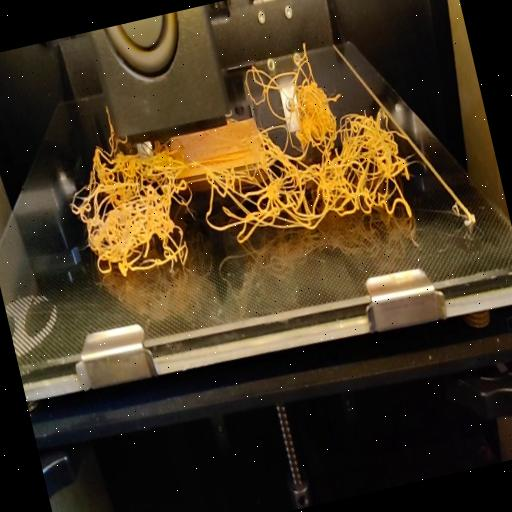spaghetti: (220, 24, 412, 244), (61, 120, 264, 293)
